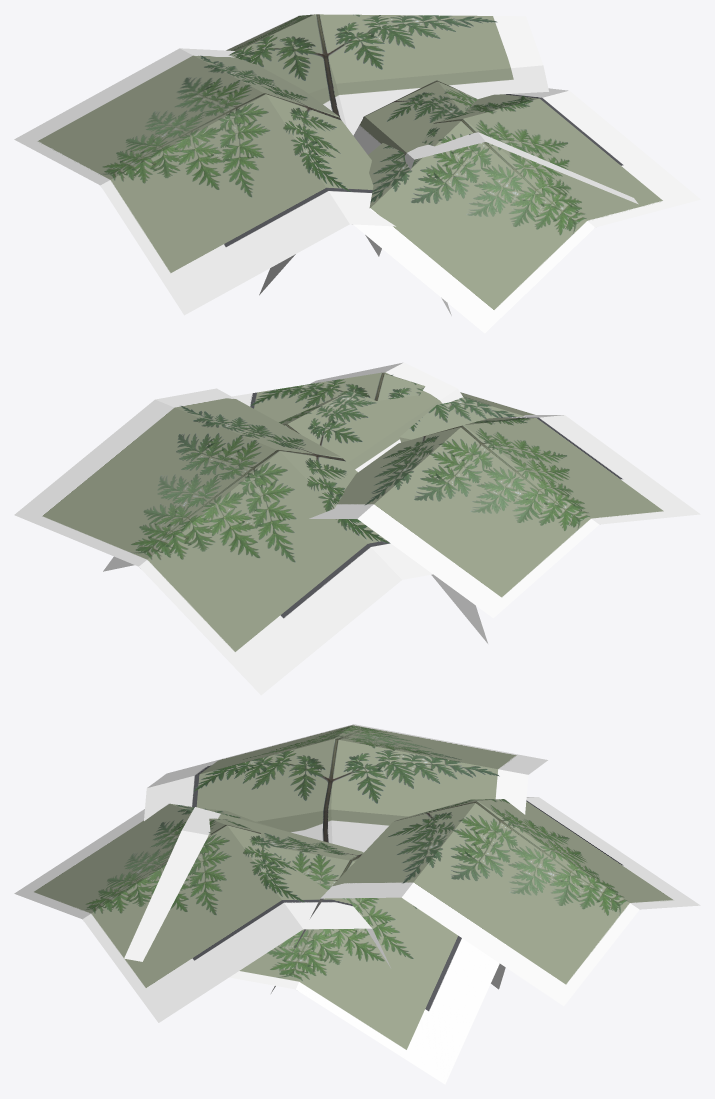
Rendered from Fern.fbx.
3 views of the same model, one above another, from view 1: azimuth 30°, elevation 25°; view 2: azimuth 150°, elevation 25°; view 3: azimuth 270°, elevation 25° (orthographic). The views are drawn at different scales.
Parts seen in each view (by area): view 1: Fern; view 2: Fern; view 3: Fern.
Boxes of the visible parts, x1=… form: Fern: x1=14, y1=14, x2=700, y2=333; Fern: x1=14, y1=362, x2=700, y2=695; Fern: x1=14, y1=724, x2=700, y2=1084.
Size of the model in its own units: 0.9 by 0.3423 by 1.04.
